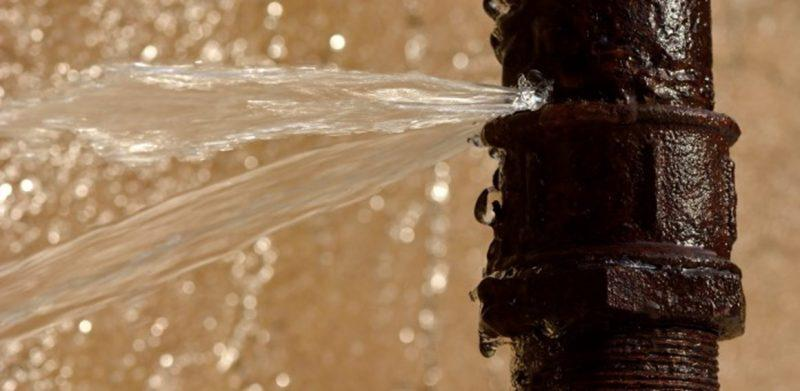water_leak: (0, 1, 542, 389)
